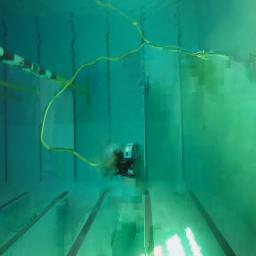Full: (138, 85, 150, 93)
back: (100, 141, 144, 184)
